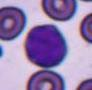L: (24, 24, 68, 67)
